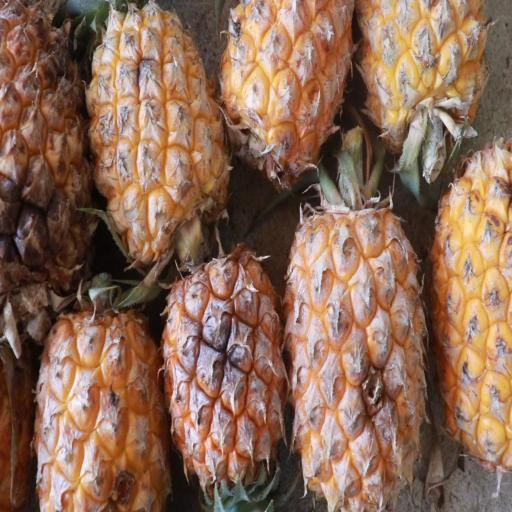Pineapple - v8 v1: (284, 161, 432, 512), (82, 0, 233, 259), (0, 0, 105, 338), (160, 242, 291, 508), (32, 267, 172, 512), (426, 140, 511, 476), (224, 0, 360, 191), (362, 0, 495, 167)
